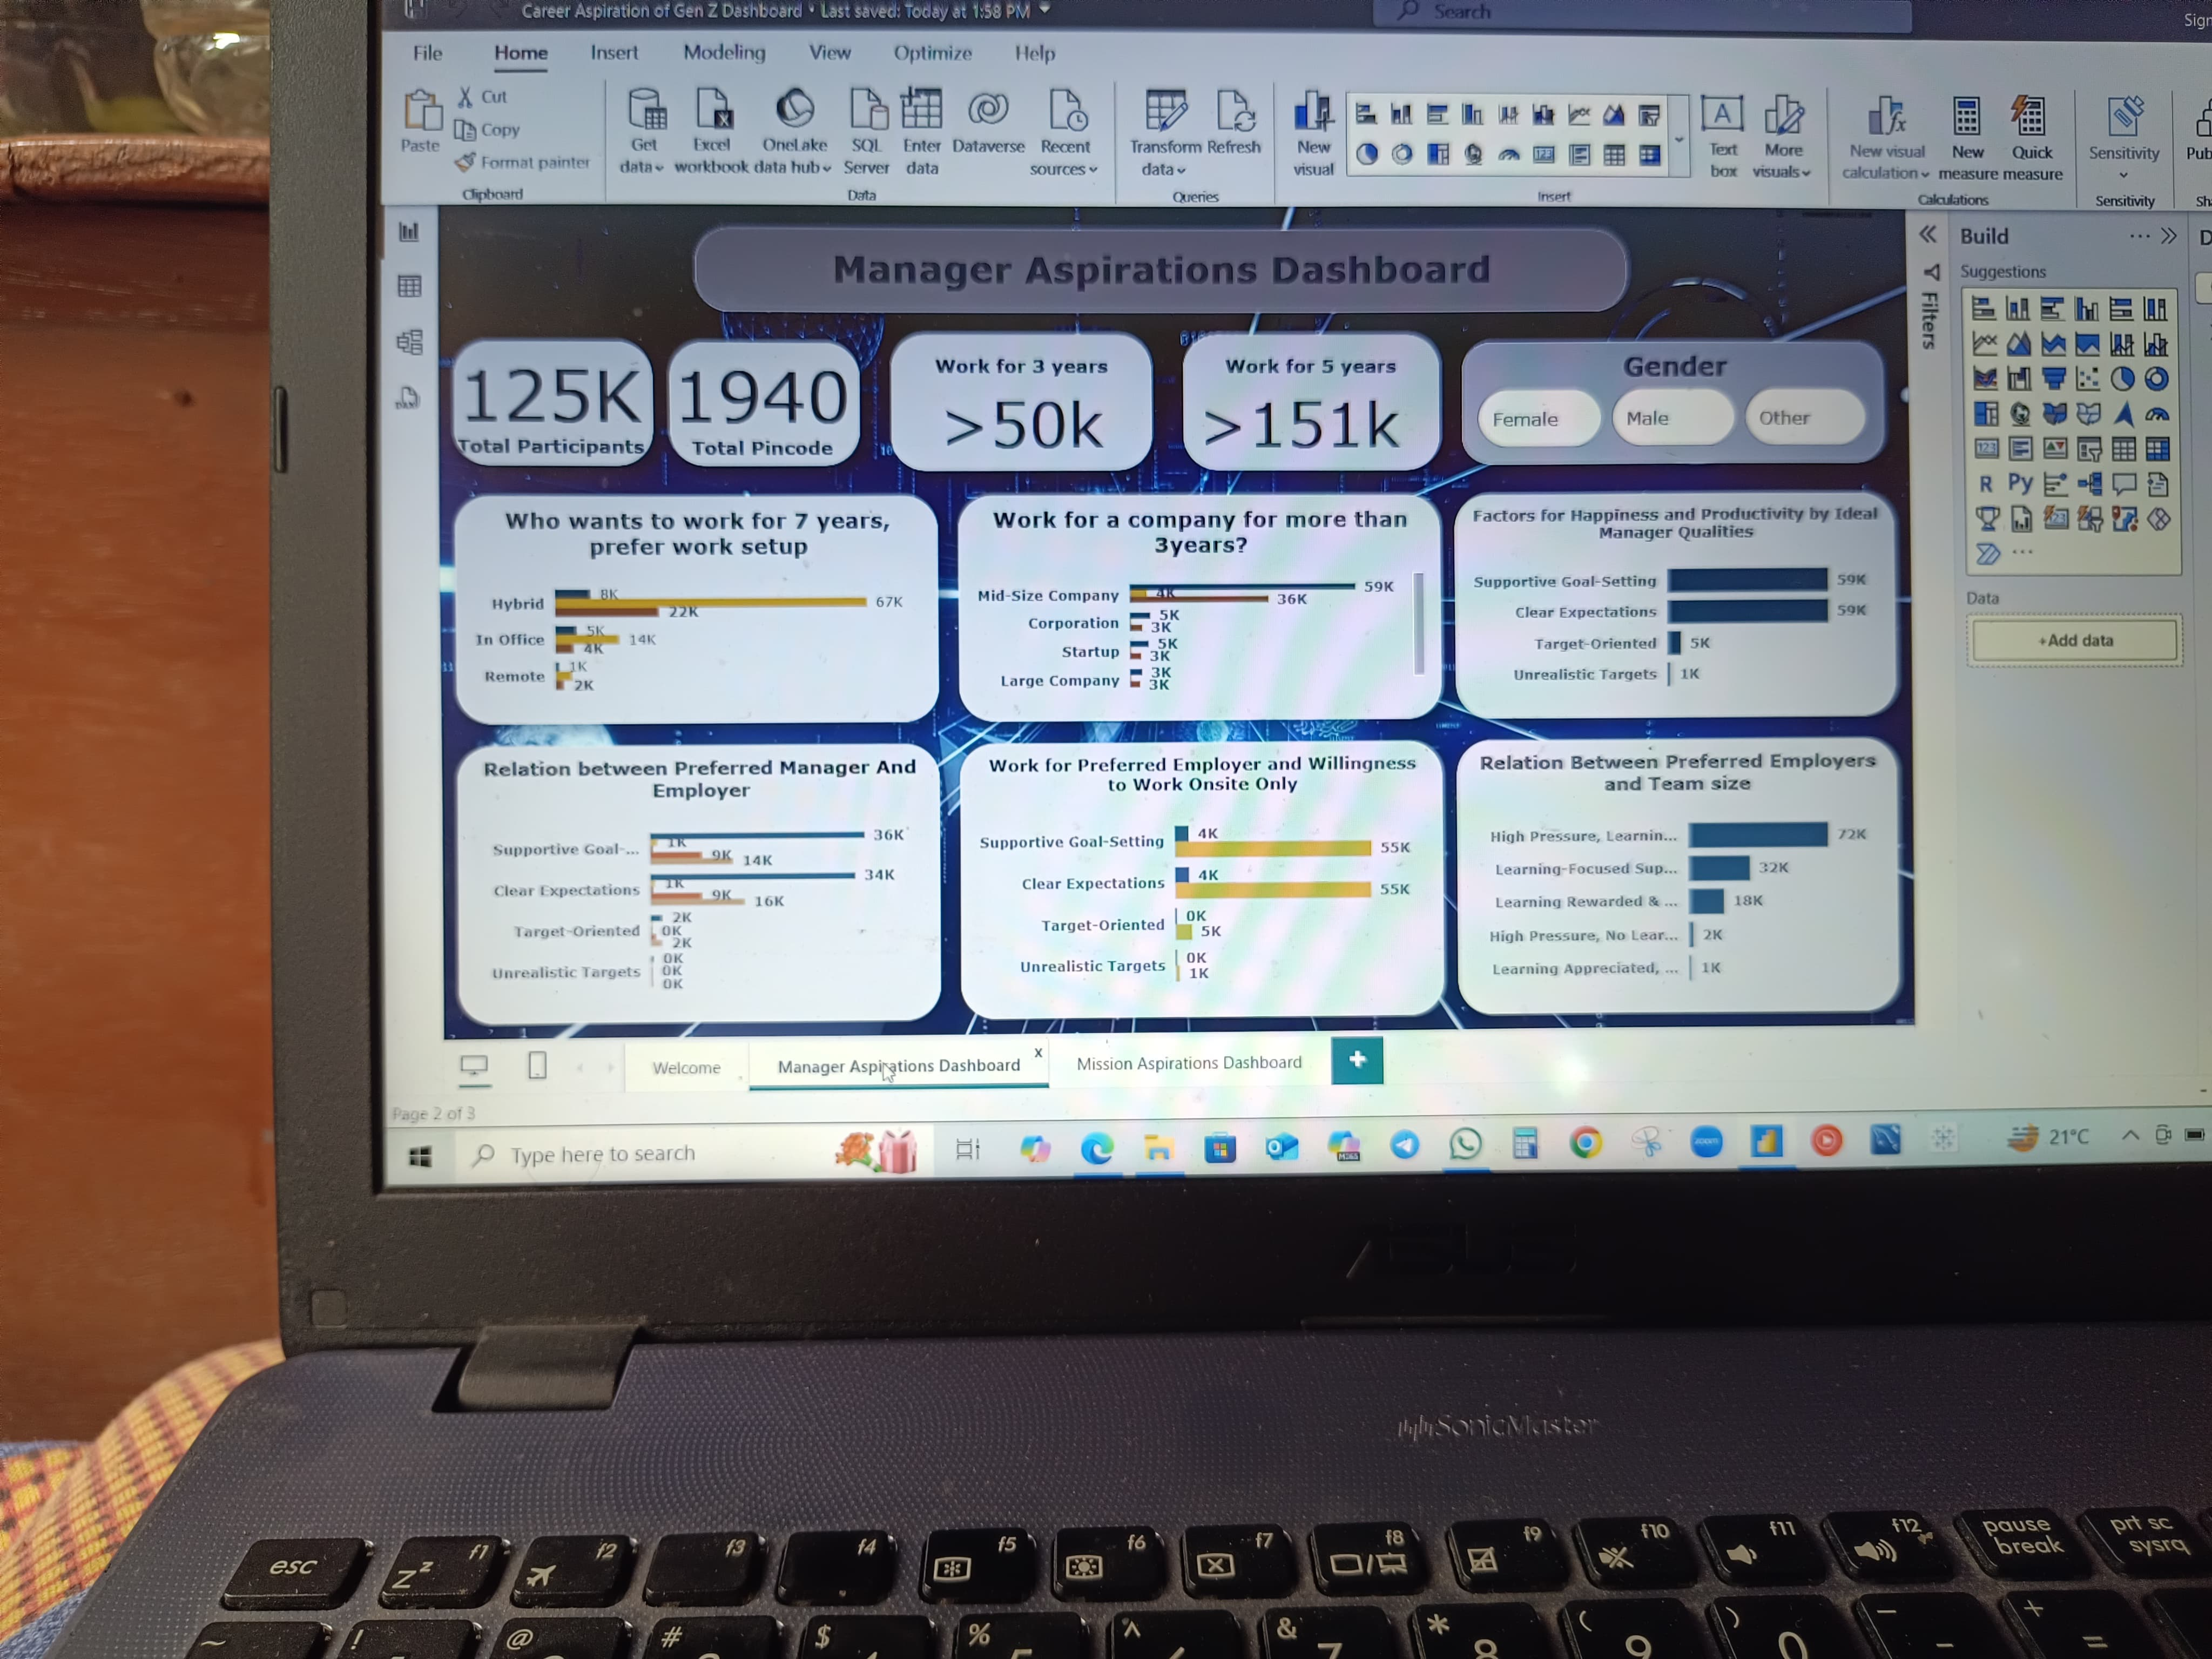

Layout of this report page (visuals, bound fields, positions):
{"tool":"powerbi","page":{"name":"Manager Aspirations Dashboard","canvas":[1280,720],"ordinal":1},"visuals":[{"type":"card","fields":{"Values":["Survey Response.Total Participants"]},"box":[13,118.3,168.8,106.8],"z":0},{"type":"card","fields":{"Values":["Survey Response.Total Pincode"]},"box":[196.2,118.3,163,106.8],"z":1000},{"type":"textbox","box":[219.3,20.2,810.8,72.1],"z":2000},{"type":"advancedSlicerVisual","fields":{"Values":["Survey Response.Gender"]},"box":[885.9,118.3,372.2,106.8],"z":3000},{"type":"cardVisual","fields":{"Data":["Min(Survey Response.Min Expected Salary (After 5 Years, Monthly))"]},"box":[640.7,111.6,225,118.8],"z":4000},{"type":"cardVisual","fields":{"Data":["Min(Survey Response.Min Expected Salary (First 3 Years, Monthly))"]},"box":[387.1,111.6,226.5,118.3],"z":5000},{"type":"clusteredBarChart","title":"Who wants to work for 7 years, prefer work setup","fields":{"Series":["Survey Response.Likelihood of 7+ Year Tenure"],"Category":["Survey Response.Preferred Work Setup"],"Y":["CountNonNull(Survey Response.Preferred Work Setup)"]},"box":[12.6,252,414,196.2],"z":6000},{"type":"clusteredBarChart","title":"Work for a company for more than 3years?","fields":{"Series":["Survey Response.3 Year Tenurity"],"Y":["CountNonNull(Survey Response.3 Year Tenurity)"],"Category":["Survey Response.Preferred Company Size"]},"box":[444.6,252,421.2,196.2],"z":7000},{"type":"clusteredBarChart","title":"Relation between Preferred Manager And Employer","fields":{"Category":["Survey Response.Ideal Manager Qualities"],"Y":["CountNonNull(Survey Response.Preferred Employer)"],"Series":["Survey Response.Preferred Employer"]},"box":[12.6,467.9,414,239.4],"z":8000},{"type":"clusteredBarChart","title":"Work for Preferred Employer and Willingness to Work Onsite Only","fields":{"Y":["CountNonNull(Survey Response.Willingness to Work Onsite Only)"],"Series":["Survey Response.Willingness to Work Onsite Only"],"Category":["Survey Response.Ideal Manager Qualities"]},"box":[444.6,467.9,421.2,239.4],"z":9000},{"type":"clusteredBarChart","title":"Relation Between Preferred Employers and Team size","fields":{"Category":["Survey Response.Preferred Employer"],"Y":["CountNonNull(Survey Response.Preferred Company Size)"]},"box":[878.3,467.9,387,239.4],"z":10000},{"type":"clusteredBarChart","title":"Factors for Happiness and Productivity by Ideal Manager Qualities","fields":{"Category":["Survey Response.Ideal Manager Qualities"],"Y":["CountNonNull(Survey Response.Factors for Happiness and Productivity)"]},"box":[878.3,252,387,196.2],"z":11000}]}

Visuals, with their boxes on the page's 1280x720 design canvas (x1, y1, x2, y2). These are canvas units, not pixel positions in the 2212x1659 screenshot, which may show the page scaled, cropped or inside an application window:
card - Survey Response.Total Participants: 13 118 182 225
card - Survey Response.Total Pincode: 196 118 359 225
textbox: 219 20 1030 92
advancedSlicerVisual - Survey Response.Gender: 886 118 1258 225
cardVisual - Min(Survey Response.Min Expected Salary (After 5 Years, Monthly)): 641 112 866 230
cardVisual - Min(Survey Response.Min Expected Salary (First 3 Years, Monthly)): 387 112 614 230
"Who wants to work for 7 years, prefer work setup" clusteredBarChart: 13 252 427 448
"Work for a company for more than 3years?" clusteredBarChart: 445 252 866 448
"Relation between Preferred Manager And Employer" clusteredBarChart: 13 468 427 707
"Work for Preferred Employer and Willingness to Work Onsite Only" clusteredBarChart: 445 468 866 707
"Relation Between Preferred Employers and Team size" clusteredBarChart: 878 468 1265 707
"Factors for Happiness and Productivity by Ideal Manager Qualities" clusteredBarChart: 878 252 1265 448
